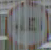Heavy Vehicles: (5, 5, 50, 44)
